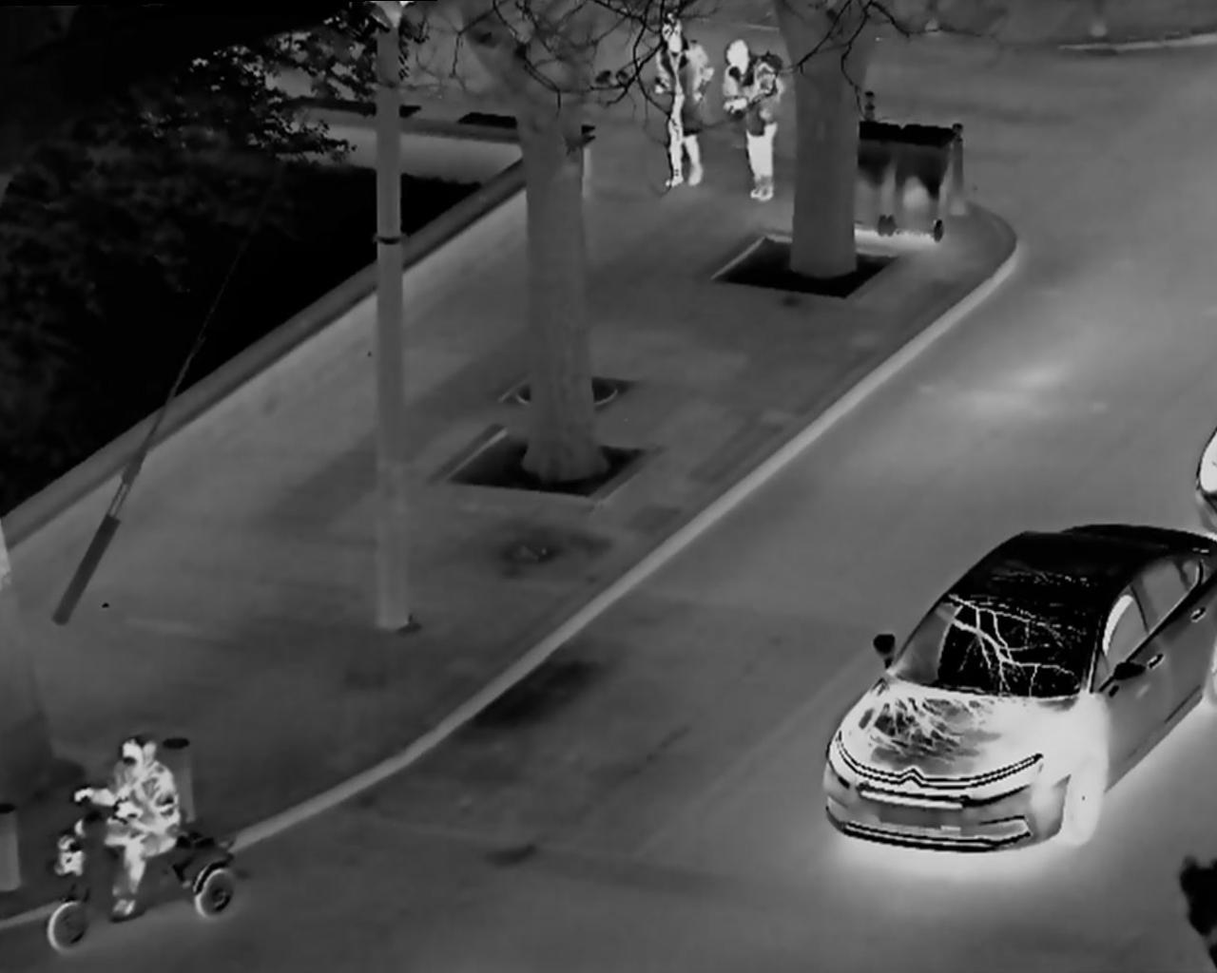person: (64, 722, 206, 930), (712, 27, 791, 213), (647, 6, 714, 192)
